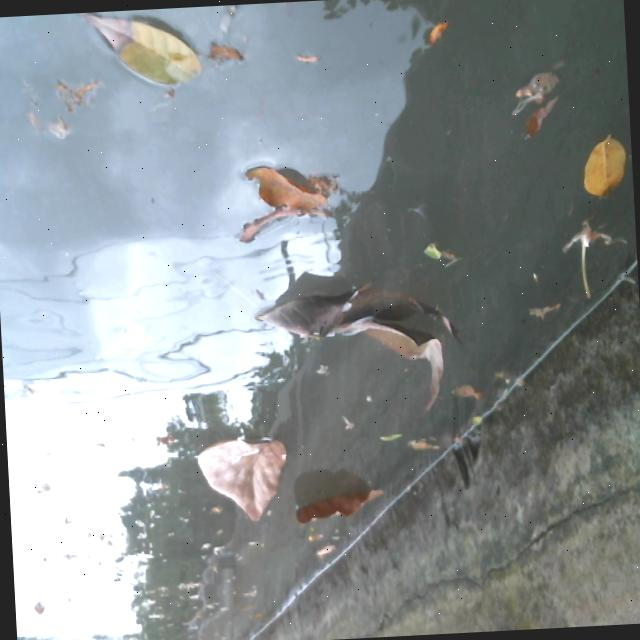Big-leaf: (250, 271, 456, 414), (230, 149, 337, 252), (198, 425, 294, 523), (285, 468, 402, 531)
Small-leaf: (73, 7, 199, 100), (509, 56, 568, 138), (577, 131, 634, 202), (397, 15, 452, 56), (406, 234, 459, 272), (441, 371, 494, 408), (209, 37, 262, 70), (374, 418, 404, 453), (403, 423, 432, 456), (311, 536, 338, 563)
